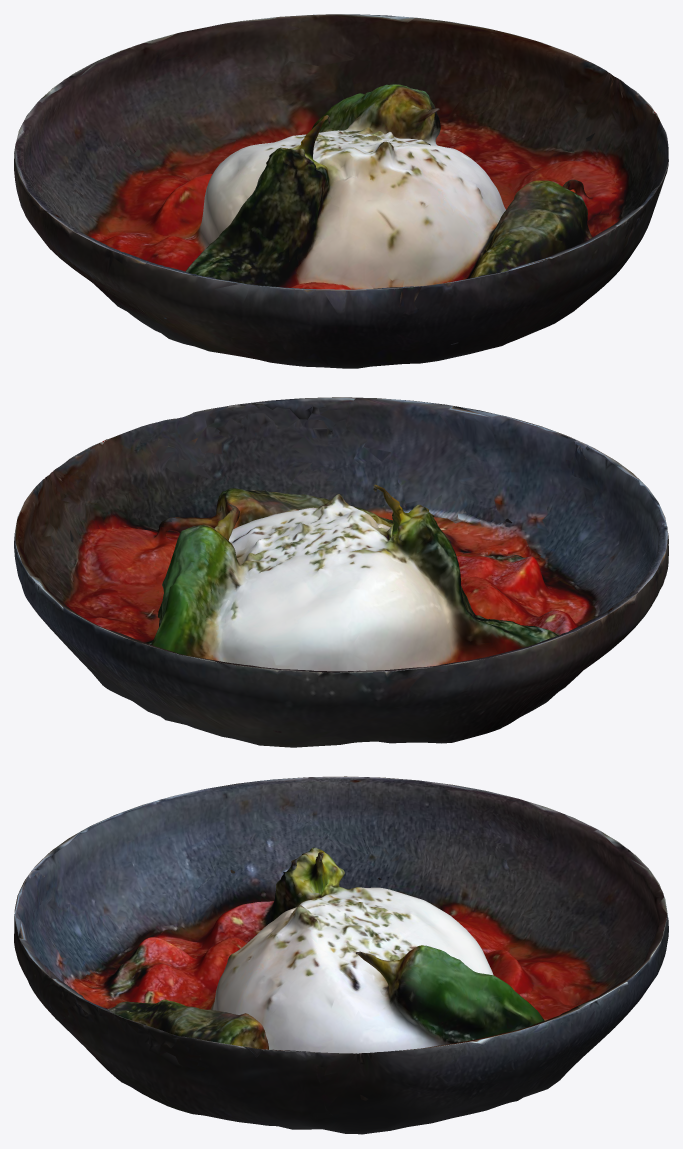
Rendered from Plato_12.glb.
The picture shows the model from 3 angles, top to bottom: view 1: azimuth 30°, elevation 25°; view 2: azimuth 150°, elevation 25°; view 3: azimuth 270°, elevation 25°; orthographic projection.
Parts seen in each view (by area): view 1: Burrata con Pomodorini Decimate; view 2: Burrata con Pomodorini Decimate; view 3: Burrata con Pomodorini Decimate.
Part boxes in pixels (left/top/right/bottom): Burrata con Pomodorini Decimate: left=14, top=14, right=668, bottom=368; Burrata con Pomodorini Decimate: left=14, top=397, right=668, bottom=747; Burrata con Pomodorini Decimate: left=14, top=776, right=668, bottom=1134.
Size of the model in its own units: 0.2 by 0.055 by 0.2.
1 material, 1 textured.
